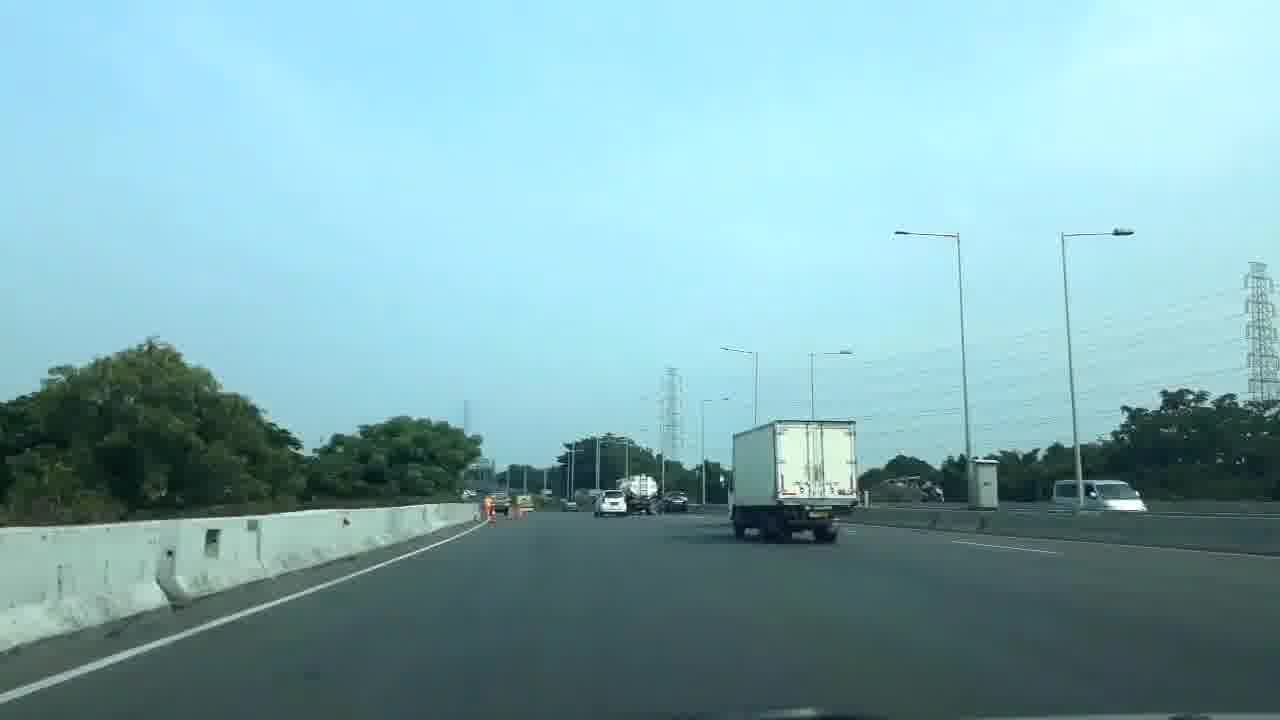plate_positive: (808, 510, 830, 519)
